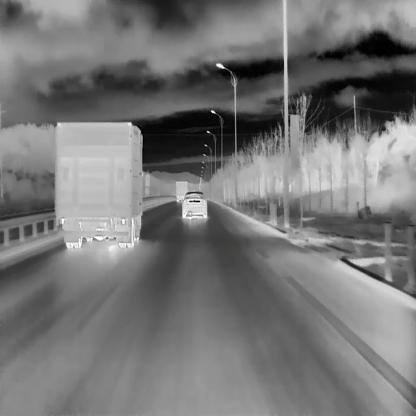car: (55, 121, 148, 249), (181, 191, 207, 219), (174, 180, 187, 201)
